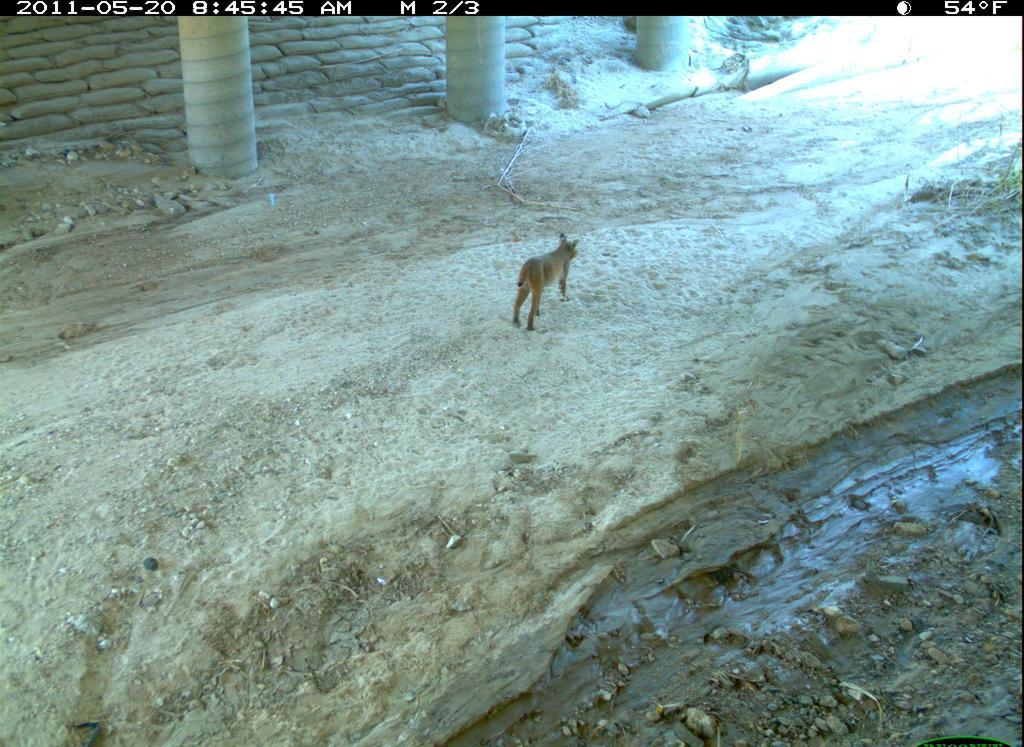bobcat: (510, 232, 584, 341)
